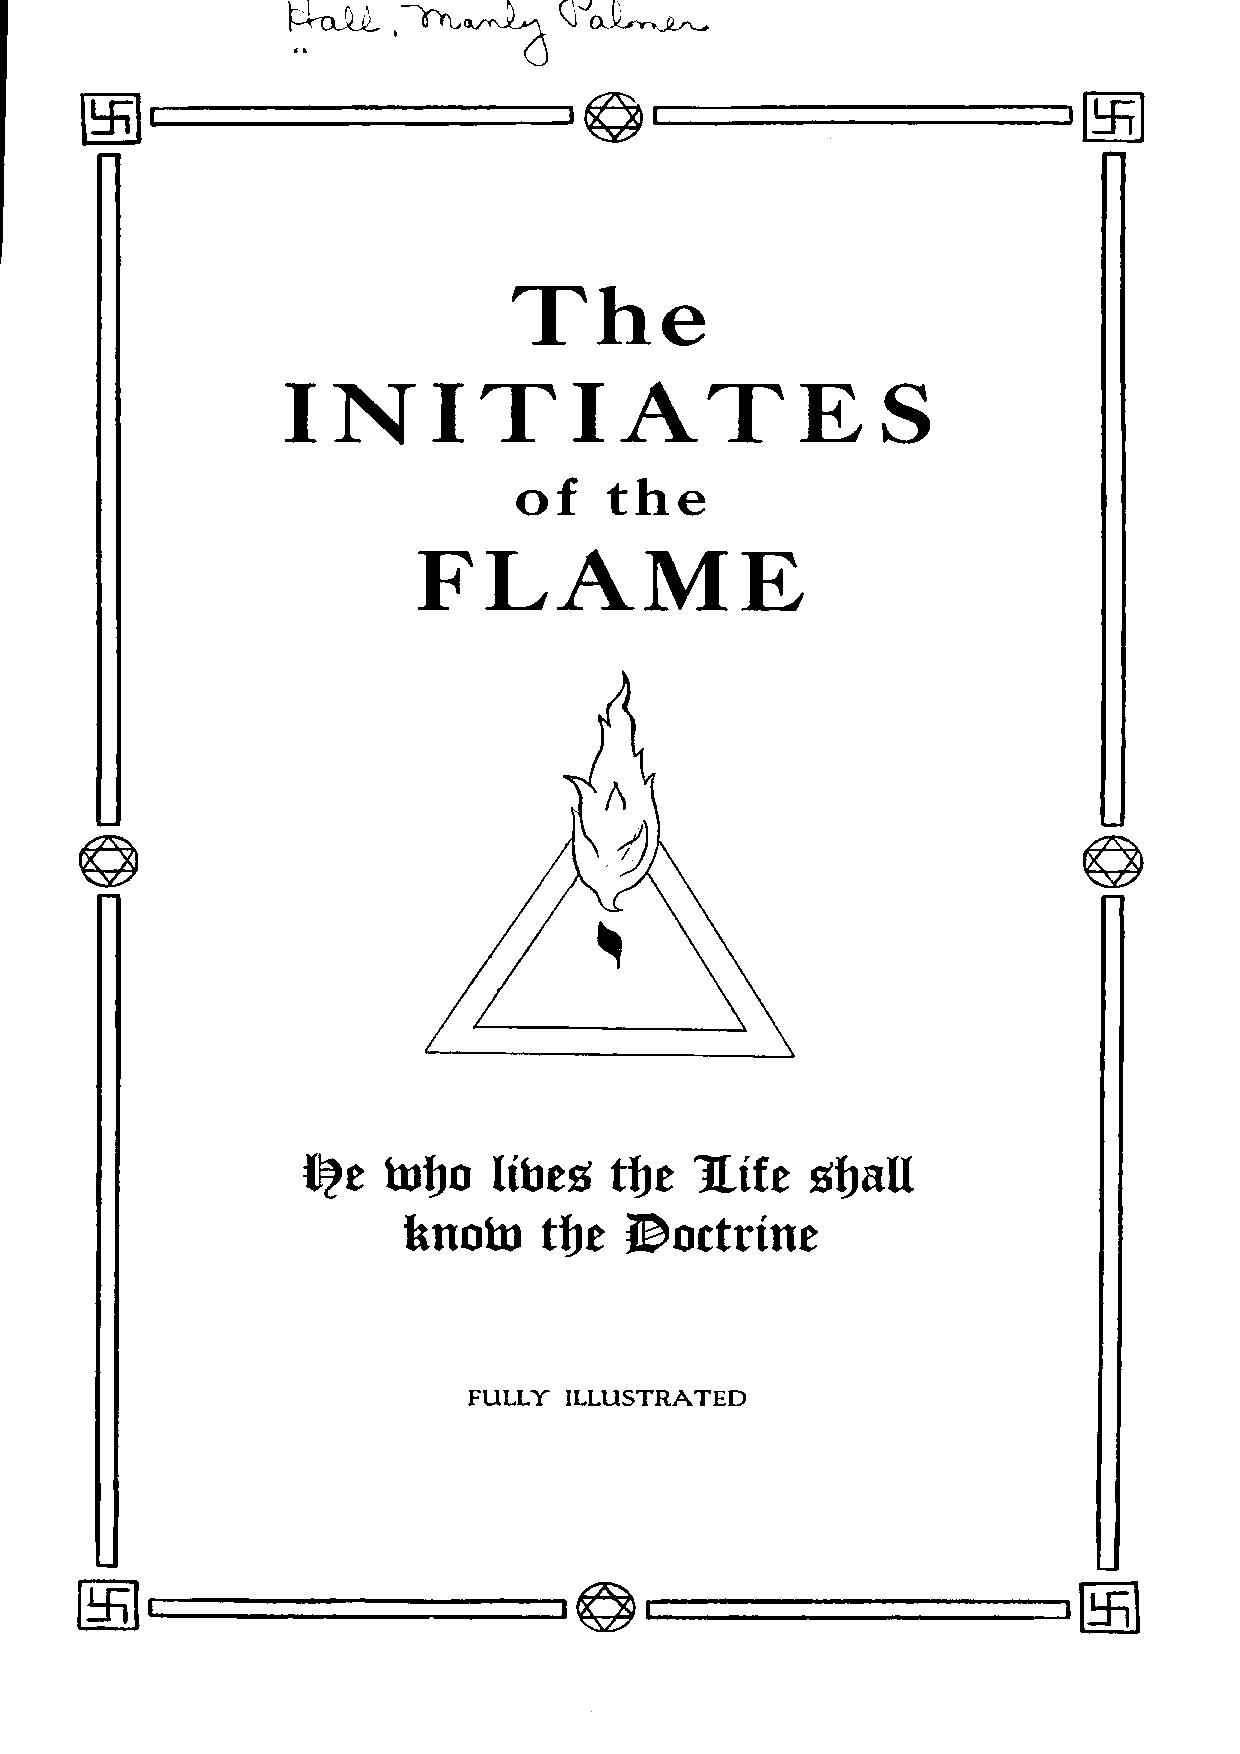title: (278, 280, 930, 615)
